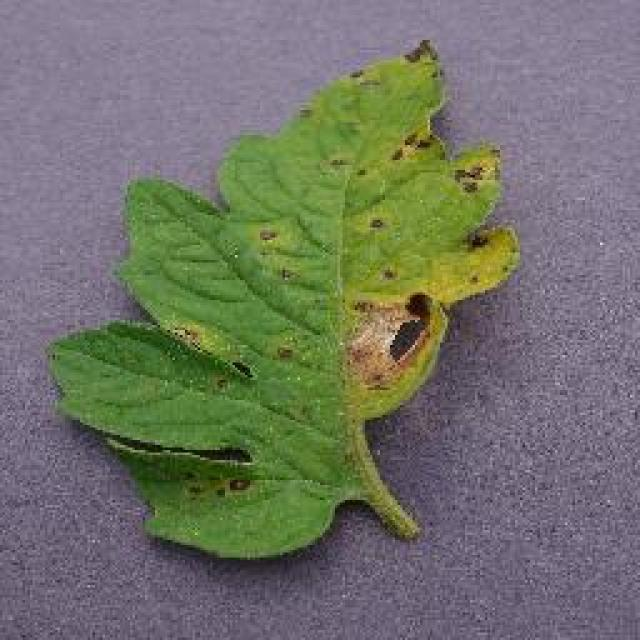Tomato___Septoria_leaf_spot: (50, 40, 518, 555)
